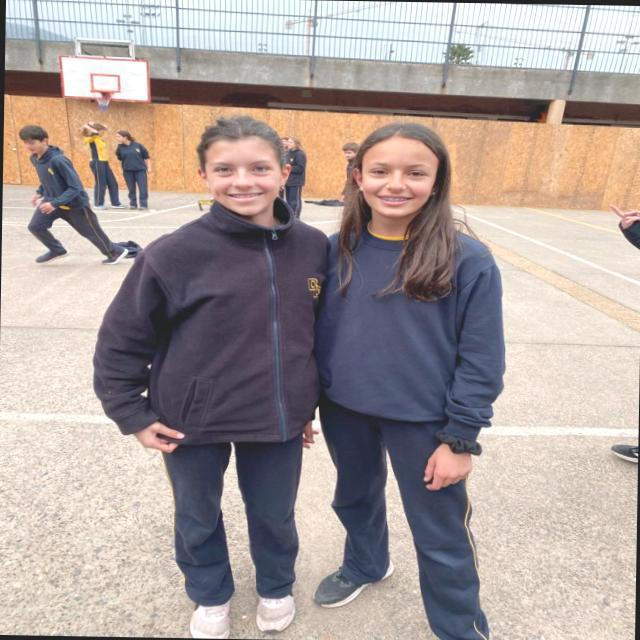person: (82, 110, 345, 640), (309, 105, 559, 640), (0, 123, 150, 280), (75, 120, 125, 212), (108, 124, 154, 206), (280, 136, 318, 219), (334, 136, 359, 162)
